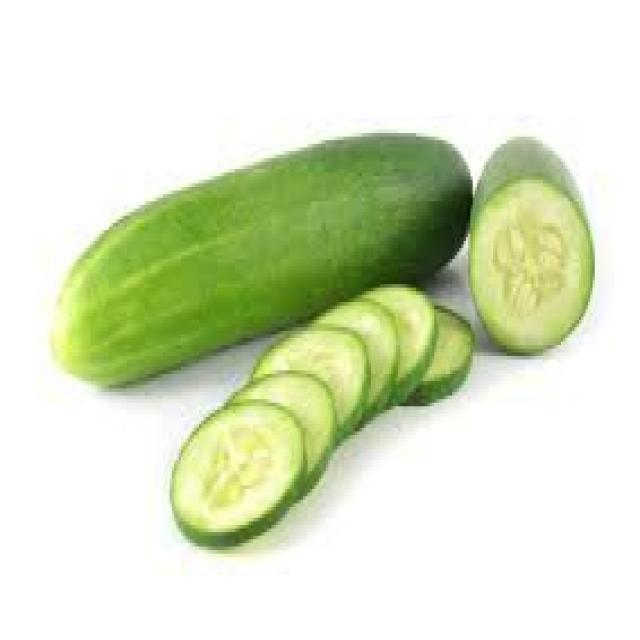cucumber: (43, 130, 475, 386)
